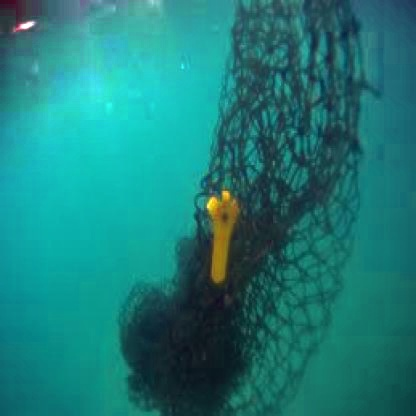net: (132, 2, 356, 416)
